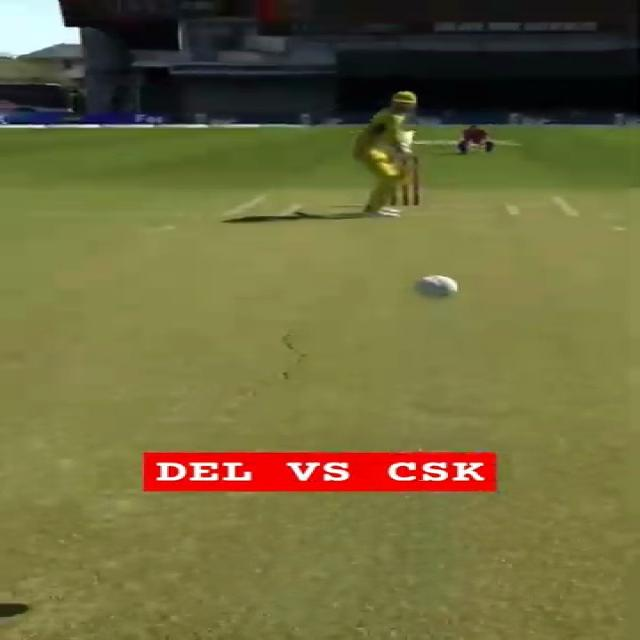ball: (404, 273, 464, 301)
